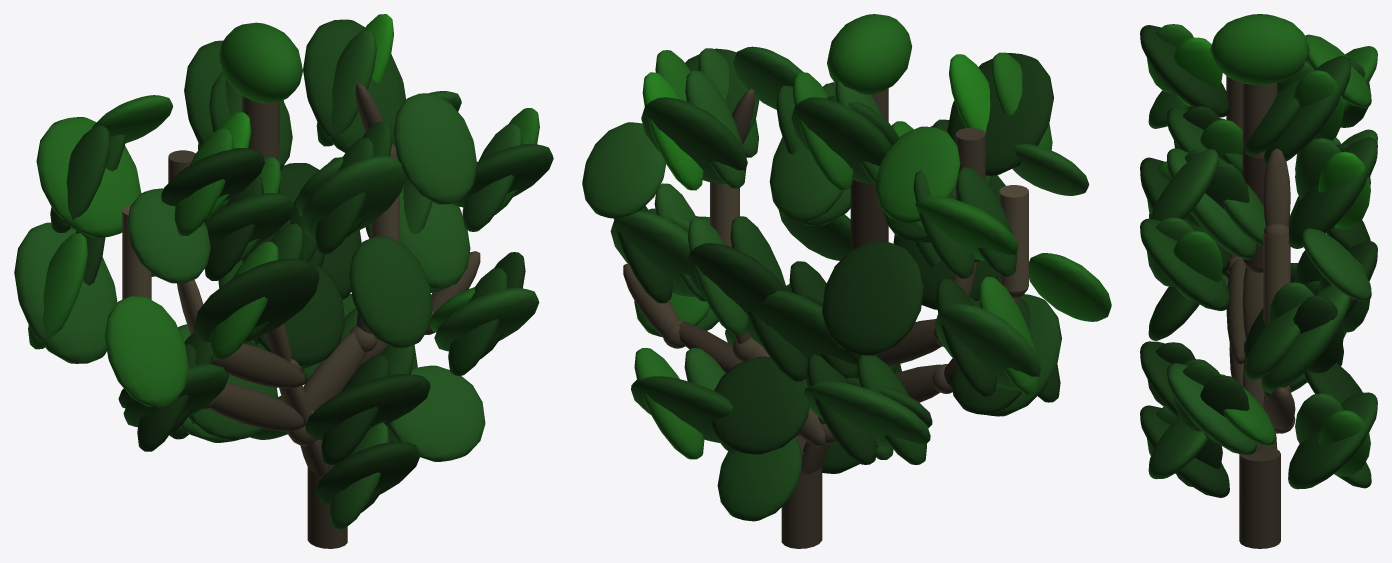
The model's file is CMU3DRMCBushl2.glb.
3 renders of one model, left to right at view 1: azimuth 30°, elevation 25°; view 2: azimuth 150°, elevation 25°; view 3: azimuth 270°, elevation 25°, orthographic. The views are drawn at different scales.
Parts seen in each view (by area): view 1: leaf cluster 12 inner leaf, leaf cluster 16 back leaves, leaf cluster 12 back leaves, leaf cluster 4 back leaves, leaf cluster 0 inner leaf, leaf cluster 8 back leaves, leaf cluster 4 inner leaf, leaf cluster 13 inner leaf, source leafy top tip, leaf cluster 0 back leaves, leaf cluster 3 inner leaf, leaf cluster 17 inner leaf (+50 smaller); view 2: leaf cluster 13 back leaves, leaf cluster 17 back leaves, leaf cluster 5 back leaves, leaf cluster 1 back leaves, leaf cluster 1 inner leaf, source leafy top tip, leaf cluster 9 back leaves, leaf cluster 4 inner leaf, leaf cluster 12 inner leaf, leaf cluster 2 inner leaf, leaf cluster 10 inner leaf, leaf cluster 3 back leaves (+55 smaller); view 3: source leafy top tip, visible rooted trunk, leaf cluster 8 inner leaf, leaf cluster 4 inner leaf, leaf cluster 5 inner leaf, leaf cluster 1 inner leaf, leaf cluster 6 inner leaf, leaf cluster 7 inner leaf, leaf cluster 2 inner leaf, leaf cluster 5 back leaves, leaf cluster 4 back leaves, leaf cluster 3 inner leaf (+53 smaller).
Boxes of the visible parts, box(x1,y1,x2,y2) form: leaf cluster 12 inner leaf: box(14, 222, 117, 363); leaf cluster 16 back leaves: box(349, 236, 432, 347); leaf cluster 12 back leaves: box(105, 296, 188, 407); leaf cluster 4 back leaves: box(393, 93, 477, 204); leaf cluster 0 inner leaf: box(36, 117, 141, 237); leaf cluster 8 back leaves: box(388, 365, 485, 461); leaf cluster 4 inner leaf: box(303, 19, 405, 152); leaf cluster 13 inner leaf: box(194, 258, 319, 342); source leafy top tip: box(219, 22, 302, 103); leaf cluster 0 back leaves: box(127, 188, 210, 283); leaf cluster 3 inner leaf: box(301, 155, 405, 238); leaf cluster 17 inner leaf: box(305, 374, 430, 439); leaf cluster 13 back leaves: box(822, 241, 923, 355); leaf cluster 17 back leaves: box(711, 356, 809, 454); leaf cluster 5 back leaves: box(582, 122, 665, 218); leaf cluster 1 back leaves: box(875, 126, 960, 223); leaf cluster 1 inner leaf: box(947, 53, 1053, 175); source leafy top tip: box(827, 14, 912, 95); leaf cluster 9 back leaves: box(717, 437, 802, 521); leaf cluster 4 inner leaf: box(641, 97, 747, 183); leaf cluster 12 inner leaf: box(934, 303, 1041, 390); leaf cluster 2 inner leaf: box(791, 97, 891, 183); leaf cluster 10 inner leaf: box(803, 381, 930, 448); leaf cluster 3 back leaves: box(769, 137, 843, 221); source leafy top tip: box(1210, 14, 1309, 84); visible rooted trunk: box(1239, 449, 1280, 548); leaf cluster 8 inner leaf: box(1288, 392, 1377, 489); leaf cluster 4 inner leaf: box(1288, 137, 1377, 248); leaf cluster 5 inner leaf: box(1140, 218, 1229, 310); leaf cluster 1 inner leaf: box(1140, 25, 1228, 117); leaf cluster 6 inner leaf: box(1261, 285, 1350, 392); leaf cluster 7 inner leaf: box(1167, 363, 1256, 455); leaf cluster 2 inner leaf: box(1264, 56, 1350, 166); leaf cluster 5 back leaves: box(1302, 228, 1371, 301); leaf cluster 4 back leaves: box(1150, 149, 1218, 220); leaf cluster 3 inner leaf: box(1167, 148, 1256, 259).
Size of the model in its own units: 0.632 by 0.7101 by 0.3102.
